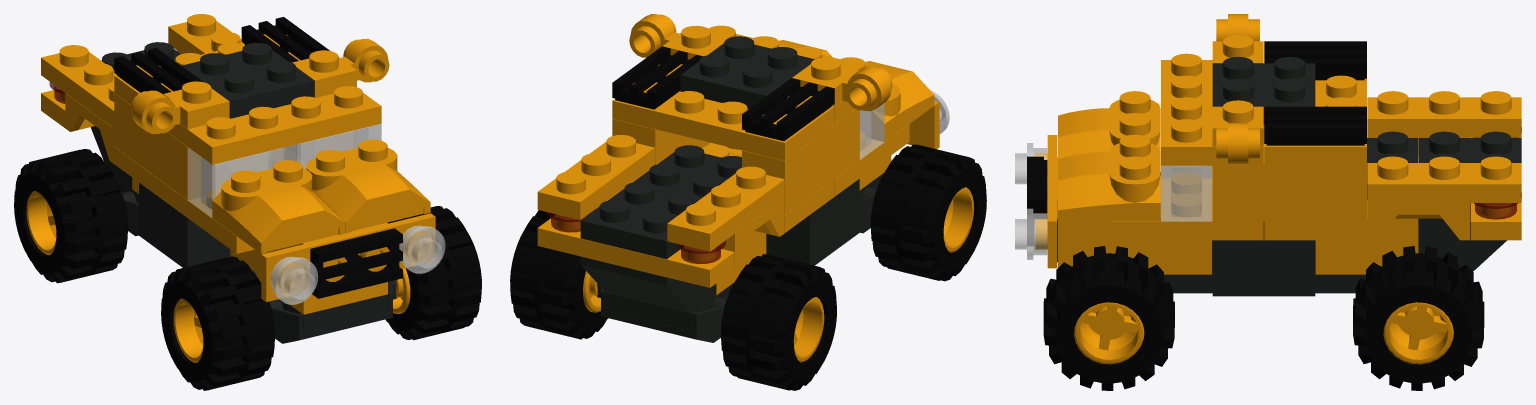
Rendered from 4096-MicroWheels[G].fbx.
3 views of the same model, side by side, from view 1: azimuth 30°, elevation 25°; view 2: azimuth 150°, elevation 25°; view 3: azimuth 270°, elevation 25° (orthographic). The views are drawn at different scales.
Visible parts, largest first — view 1: Part-41855 (×2), Part-3020 (×4), Part-87697 Tire-RR, Part-87697 Tire-FR, Part-2412 (×3), Part-87697 Tire-FL, Part-4081 (×2), Part-3022 (×2), Part-3623 (×2), Part-2436, Part-3065 (×2), Part-3622 (+9 smaller); view 2: Part-3022 (×3), Part-87697 Tire-FR, Part-87697 Tire-RR, Part-3623 (×2), Part-3020 (×4), Part-87697 Tire-RL, Part-2412 (×2), Part-3622 (×2), Part-4081 (×2), Part-3710 (×2), Part-3001, Part-3660 (+9 smaller); view 3: Part-3020 (×4), Part-3623 (×2), Part-41855 (×2), Part-87697 Tire-FL, Part-87697 Tire-RL, Part-3622, Part-3022 (×3), Part-2412 (×3), Part-6014 (×2), Part-3001, Part-4081 (×2), Part-3002 (+8 smaller).
Part boxes in pixels (x1,y1,x2,y2): Part-41855 (×2): (212,139,430,253); Part-3020 (×4): (114,34,381,235); Part-87697 Tire-RR: (14,149,127,283); Part-87697 Tire-FR: (161,256,274,390); Part-2412 (×3): (114,17,402,298); Part-87697 Tire-FL: (385,206,481,340); Part-4081 (×2): (131,38,389,134); Part-3022 (×2): (101,42,314,118); Part-3623 (×2): (41,14,243,128); Part-2436: (261,213,435,302); Part-3065 (×2): (188,123,381,217); Part-3622: (114,93,200,199); Part-3022 (×3): (580,36,814,259); Part-87697 Tire-FR: (870,144,986,281); Part-87697 Tire-RR: (721,254,836,390); Part-3623 (×2): (537,135,784,251); Part-3020 (×4): (612,25,884,232); Part-87697 Tire-RL: (510,210,608,339); Part-2412 (×2): (612,46,834,141); Part-3622 (×2): (612,109,859,214); Part-4081 (×2): (629,14,892,111); Part-3710 (×2): (537,124,909,287); Part-3001: (766,179,859,265); Part-3660: (580,256,716,313); Part-3020 (×4): (1161,53,1366,240); Part-3623 (×2): (1367,91,1521,202); Part-41855 (×2): (1058,91,1160,221); Part-87697 Tire-FL: (1043,246,1174,390); Part-87697 Tire-RL: (1353,246,1484,390); Part-3622: (1212,144,1366,221); Part-3022 (×3): (1212,56,1521,199); Part-2412 (×3): (1027,41,1366,245); Part-6014 (×2): (1074,302,1453,364); Part-3001: (1212,222,1315,296); Part-4081 (×2): (1212,14,1263,164); Part-3002: (1058,175,1211,274).
Bounding box in the file's own units: 2 × 1.71 × 3.09.
